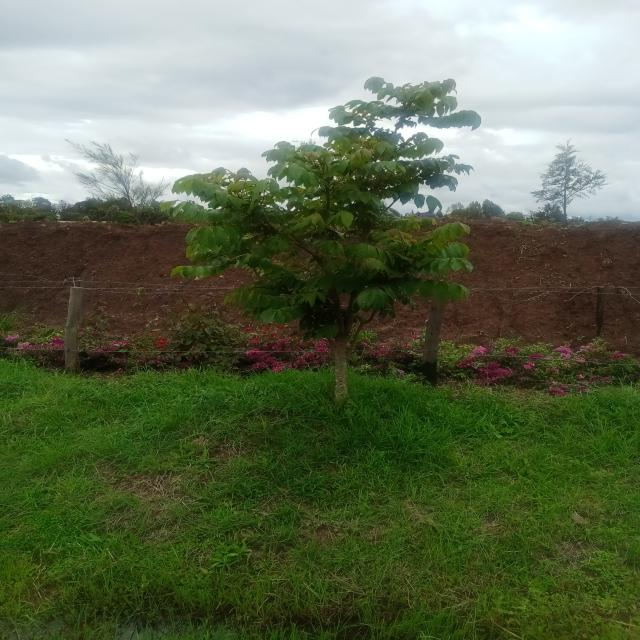Polyscias Kikuyensis: (157, 64, 519, 430)
